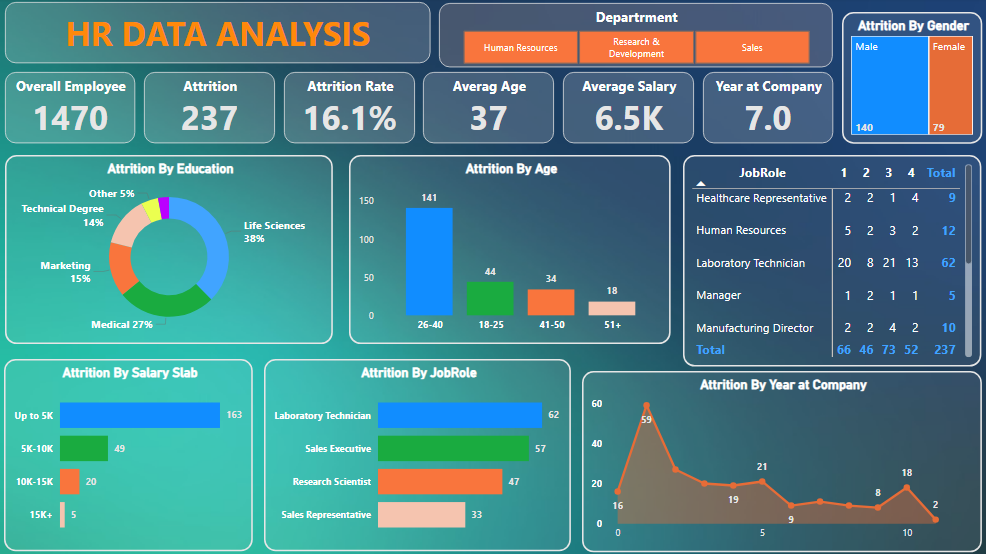

What the dashboard file says about the page in this screenshot:
{"tool":"powerbi","page":{"name":"Dashboard","canvas":[1280,720],"ordinal":0},"visuals":[{"type":"card","title":"Overall Employee","fields":{"Values":["Count(HR Data.EmployeeNumber)"]},"box":[8,96,168,92],"z":0},{"type":"card","title":"Attrition","fields":{"Values":["Sum(HR Data.ACount)"]},"box":[186.9,96,169.3,92],"z":1000},{"type":"card","title":"Attrition Rate","fields":{"Values":["HR Data.Attrition_Rate"]},"box":[367.2,96,169.3,92],"z":2000},{"type":"card","title":"Averag Age","fields":{"Values":["Avg(HR Data.Age)"]},"box":[547.5,96,169.3,92],"z":3000},{"type":"card","title":"Average Salary","fields":{"Values":["Avg(HR Data.MonthlyIncome)"]},"box":[727.7,96,169.3,92],"z":4000},{"type":"donutChart","title":"Attrition By Education","fields":{"Category":["HR Data.EducationField"],"Y":["Sum(HR Data.Attrition_Count)"]},"box":[7.7,202.6,423.2,243.9],"z":5000},{"type":"columnChart","title":"Attrition By Age","fields":{"Category":["HR Data.Age Group"],"Y":["Sum(HR Data.Attrition_Count)"]},"box":[451.6,202.6,415.5,243.9],"z":6000},{"type":"pivotTable","fields":{"Rows":["HR Data.JobRole"],"Columns":["HR Data.JobSatisfaction"],"Values":["Sum(HR Data.Attrition_Count)"]},"box":[882.7,202.7,385.3,273.3],"z":7000},{"type":"card","title":"Year at Company","fields":{"Values":["Avg(HR Data.YearsAtCompany)"]},"box":[908,96,168,92],"z":8000},{"type":"textbox","box":[8,5,549.3,79],"z":9000},{"type":"barChart","title":"Attrition By Salary Slab","fields":{"Category":["HR Data.Salary Slab"],"Y":["Sum(HR Data.Attrition_Count)"]},"box":[6.7,466.4,321.3,248],"z":10000},{"type":"barChart","title":"Attrition By JobRole","fields":{"Y":["Sum(HR Data.Attrition_Count)"],"Category":["HR Data.JobRole"]},"box":[342,466.4,396,248],"z":11000},{"type":"areaChart","title":"Attrition By Year at Company","fields":{"Category":["HR Data.YearsAtCompany"],"Y":["Sum(HR Data.Attrition_Count)"]},"box":[752.3,481.2,515.7,233.9],"z":12000},{"type":"treemap","title":"Attrition By Gender","fields":{"Group":["HR Data.Gender"],"Values":["Sum(HR Data.Attrition_Count)"]},"box":[1087.7,18.1,180.6,170.3],"z":13000},{"type":"slicer","title":"Departrment","fields":{"Values":["HR Data.Department"]},"box":[568,6.7,508,82.7],"z":14000}]}

Visuals, with their boxes in screenshot pixels (x1, y1, x2, y2), scaled from the page's 1280x720 canvas onto the 986x554 screenshot:
"Overall Employee" card: region(6, 74, 136, 145)
"Attrition" card: region(144, 74, 274, 145)
"Attrition Rate" card: region(283, 74, 413, 145)
"Averag Age" card: region(422, 74, 552, 145)
"Average Salary" card: region(561, 74, 691, 145)
"Attrition By Education" donutChart: region(6, 156, 332, 344)
"Attrition By Age" columnChart: region(348, 156, 668, 344)
pivotTable - HR Data.JobRole x HR Data.JobSatisfaction: region(680, 156, 977, 366)
"Year at Company" card: region(699, 74, 829, 145)
textbox: region(6, 4, 429, 65)
"Attrition By Salary Slab" barChart: region(5, 359, 253, 550)
"Attrition By JobRole" barChart: region(263, 359, 568, 550)
"Attrition By Year at Company" areaChart: region(580, 370, 977, 550)
"Attrition By Gender" treemap: region(838, 14, 977, 145)
"Departrment" slicer: region(438, 5, 829, 69)
